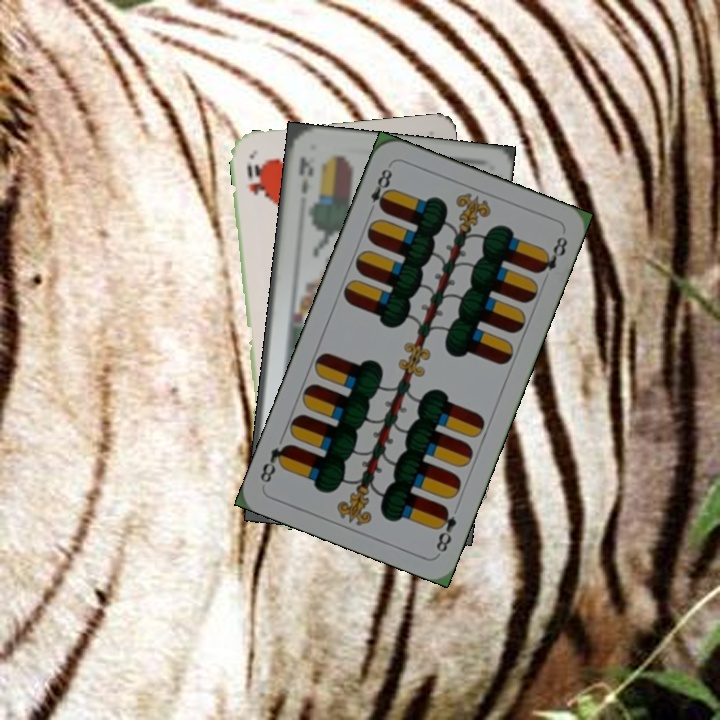E8: (364, 164, 395, 218), (431, 501, 459, 555)
EK: (294, 153, 316, 197)
HO: (243, 160, 267, 202)
